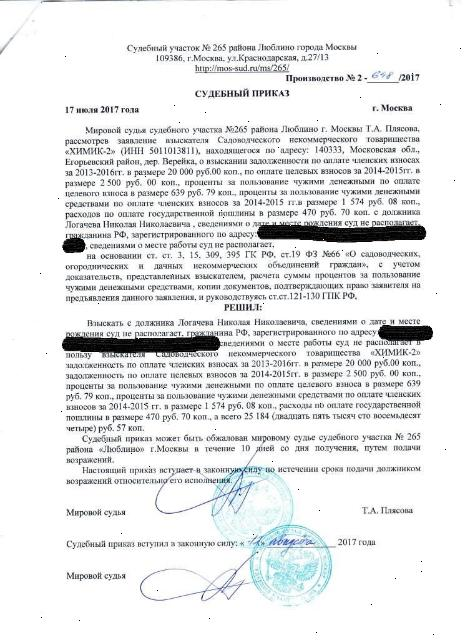stamp: (247, 525, 331, 605)
